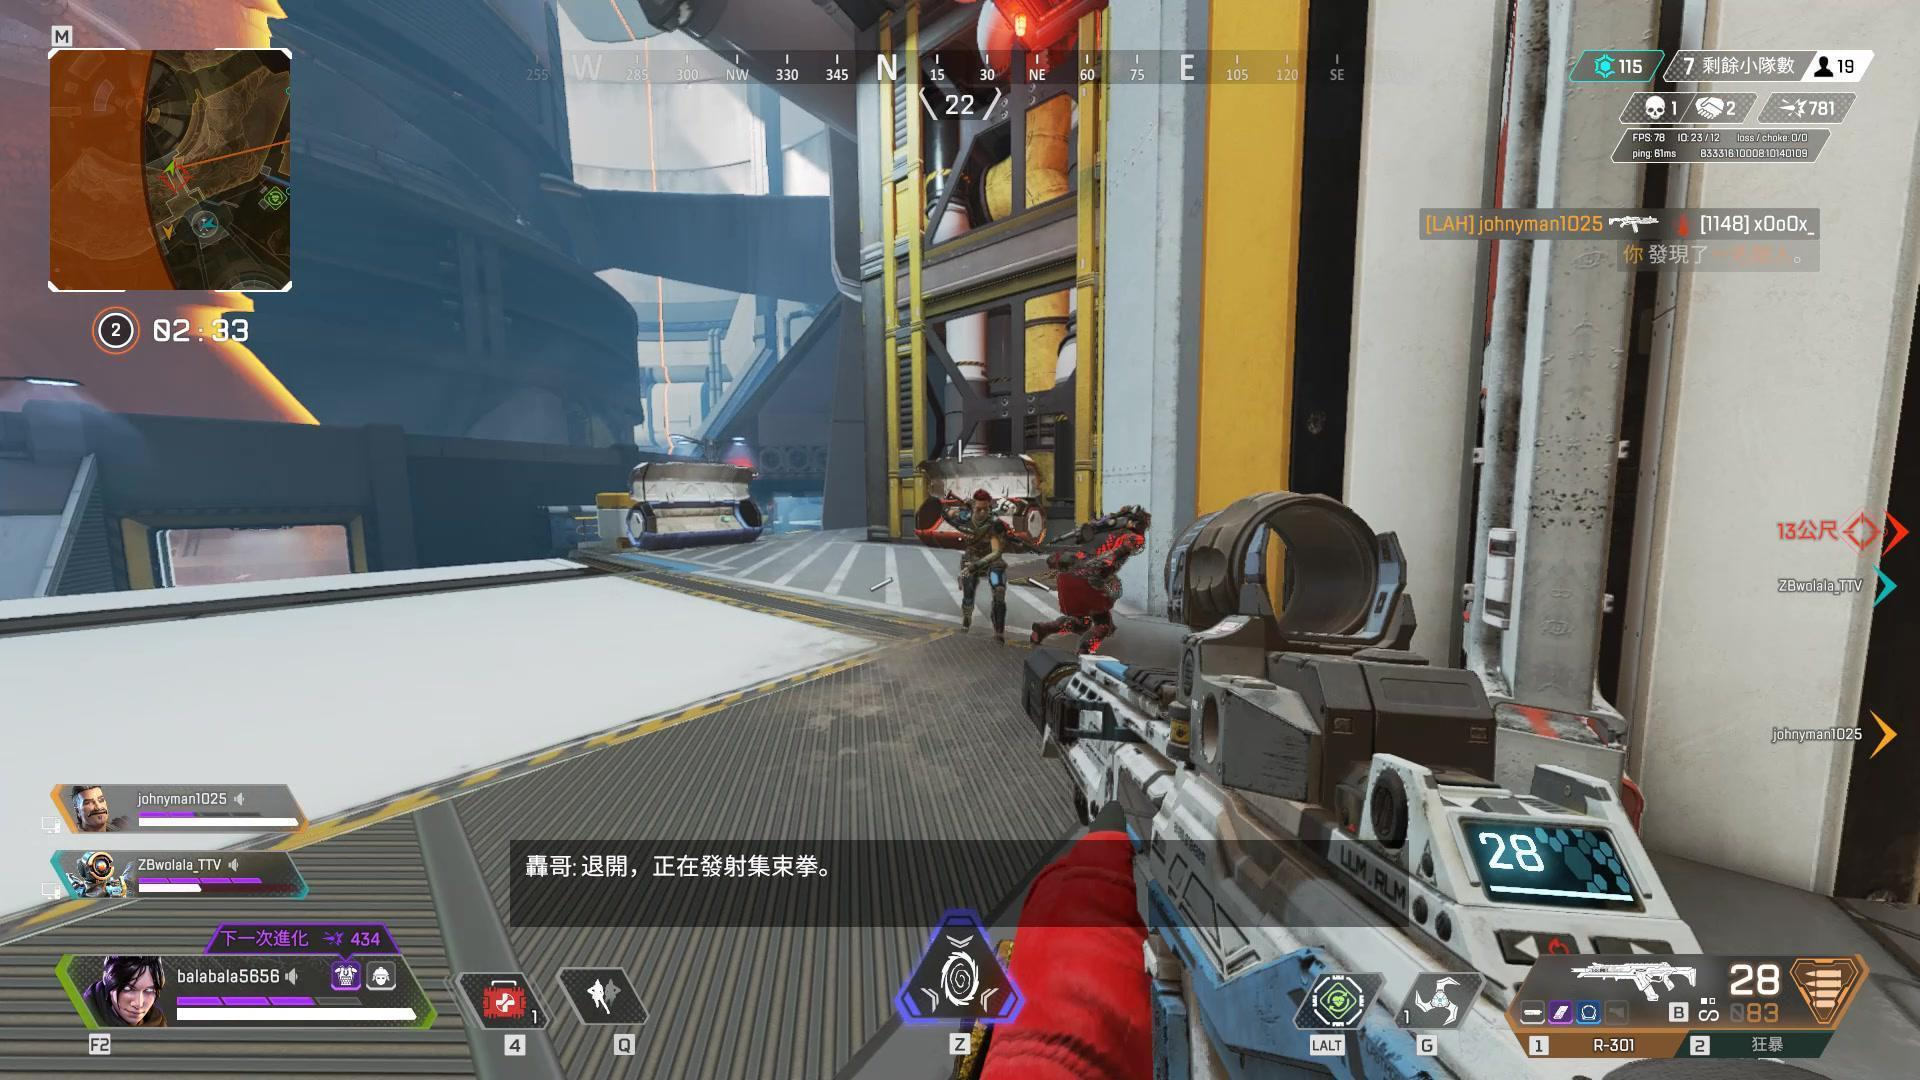avatar: (1045, 502, 1153, 655), (945, 487, 1015, 647)
